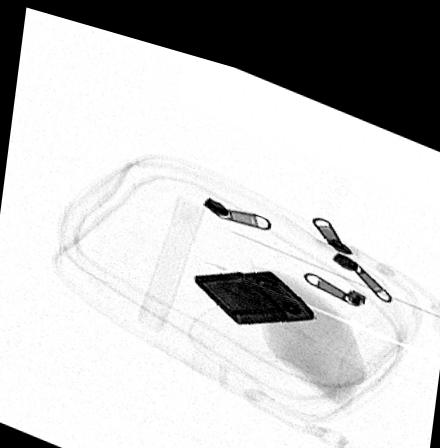Lighter: (193, 255, 315, 311)
